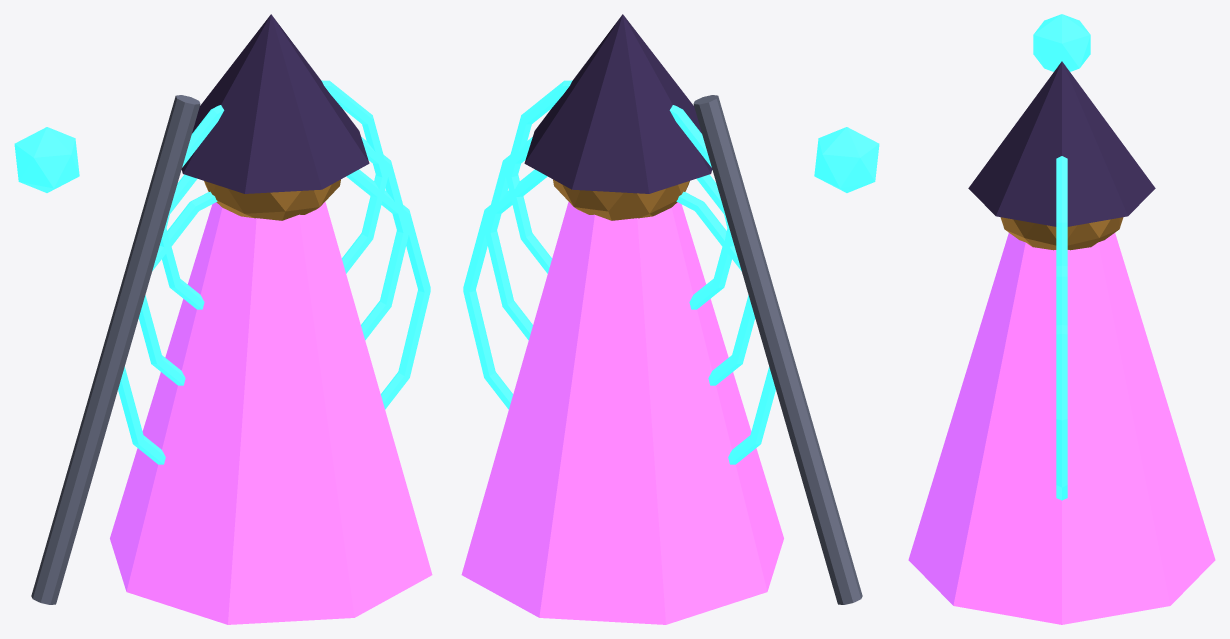
The model's file is veil-tactician.glb.
3 views of the same model, side by side, from view 1: azimuth 30°, elevation 25°; view 2: azimuth 150°, elevation 25°; view 3: azimuth 270°, elevation 25° (orthographic). The views are drawn at different scales.
Visible parts, largest first — view 1: tactician-robe, tactician-hood, tactician-scepter, tactician-sigil-0, tactician-sigil-2, tactician-sigil-1, tactician-scepter-core, tactician-mask; view 2: tactician-robe, tactician-hood, tactician-scepter, tactician-sigil-0, tactician-sigil-2, tactician-sigil-1, tactician-scepter-core, tactician-mask; view 3: tactician-robe, tactician-hood, tactician-scepter-core, tactician-mask, tactician-sigil-0, tactician-sigil-2, tactician-sigil-1.
Boxes of the visible parts, x1=… form: tactician-robe: x1=110, y1=202, x2=432, y2=624; tactician-hood: x1=181, y1=14, x2=369, y2=193; tactician-scepter: x1=31, y1=95, x2=200, y2=604; tactician-sigil-0: x1=118, y1=169, x2=430, y2=464; tactician-sigil-2: x1=159, y1=80, x2=388, y2=309; tactician-sigil-1: x1=138, y1=137, x2=409, y2=385; tactician-scepter-core: x1=14, y1=127, x2=79, y2=192; tactician-mask: x1=204, y1=179, x2=340, y2=220; tactician-robe: x1=461, y1=202, x2=783, y2=624; tactician-hood: x1=524, y1=14, x2=712, y2=193; tactician-scepter: x1=693, y1=95, x2=862, y2=604; tactician-sigil-0: x1=463, y1=169, x2=775, y2=464; tactician-sigil-2: x1=506, y1=80, x2=734, y2=309; tactician-sigil-1: x1=484, y1=137, x2=755, y2=385; tactician-scepter-core: x1=814, y1=127, x2=879, y2=192; tactician-mask: x1=553, y1=179, x2=689, y2=220; tactician-robe: x1=908, y1=233, x2=1215, y2=624; tactician-hood: x1=968, y1=61, x2=1155, y2=226; tactician-scepter-core: x1=1033, y1=14, x2=1090, y2=71; tactician-mask: x1=1000, y1=217, x2=1123, y2=250; tactician-sigil-0: x1=1056, y1=325, x2=1067, y2=500; tactician-sigil-2: x1=1056, y1=156, x2=1067, y2=265; tactician-sigil-1: x1=1056, y1=265, x2=1067, y2=325.
Bounding box in the file's own units: 2.34 × 2.94 × 1.64.
